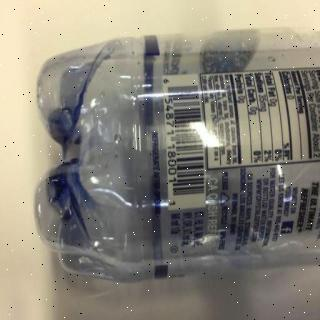Plastic-bottle: (34, 28, 320, 285)
